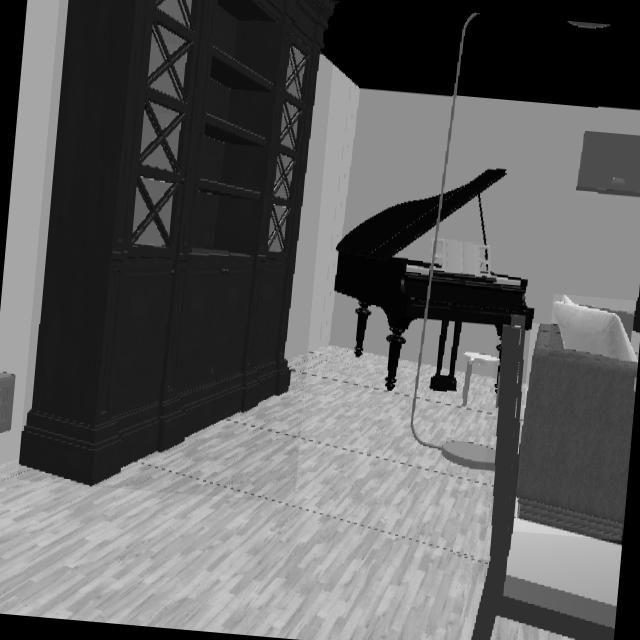bookshelf: (18, 0, 338, 486)
cabinet: (577, 131, 640, 200)
chair: (472, 325, 621, 640)
pillow: (553, 294, 637, 363)
sofa: (515, 323, 637, 540)
